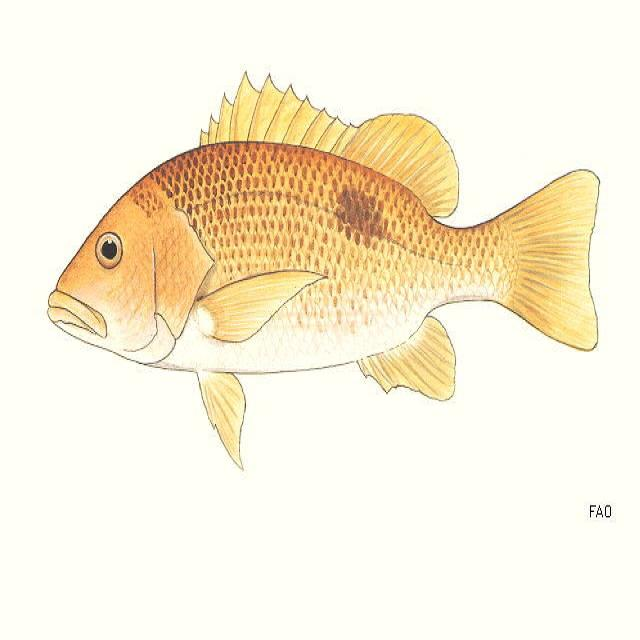ikan: (46, 70, 600, 470)
